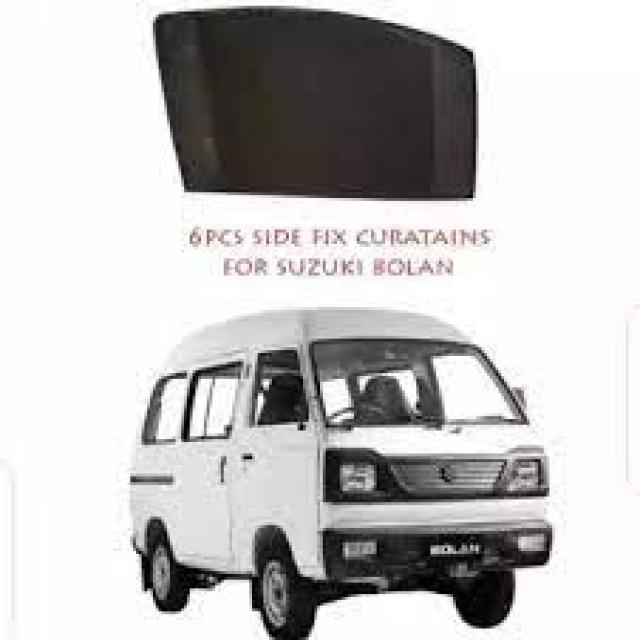Van: (128, 307, 552, 640)
